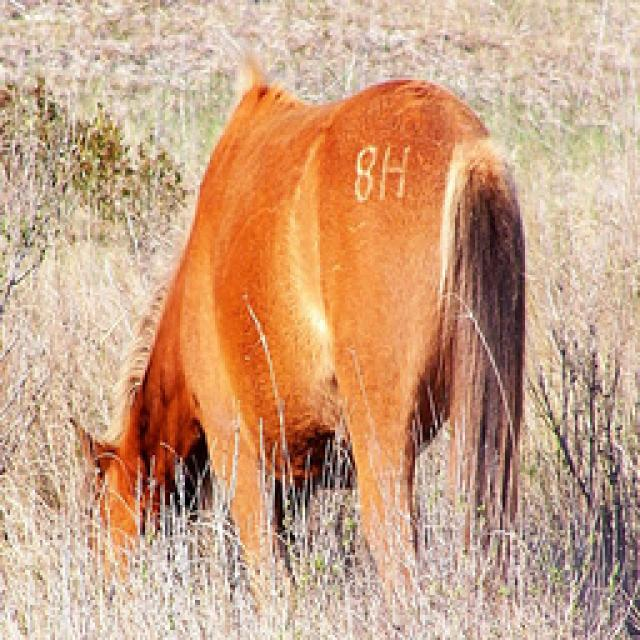not_pig: (68, 47, 528, 615)
